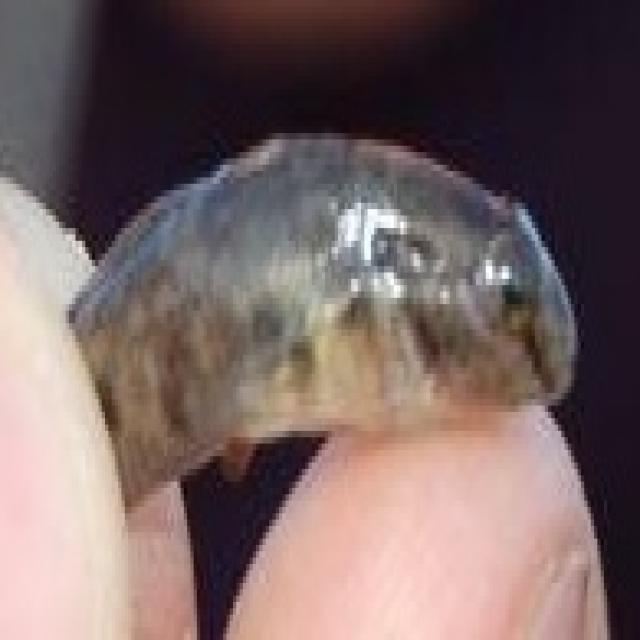Goby: (57, 55, 640, 586)
